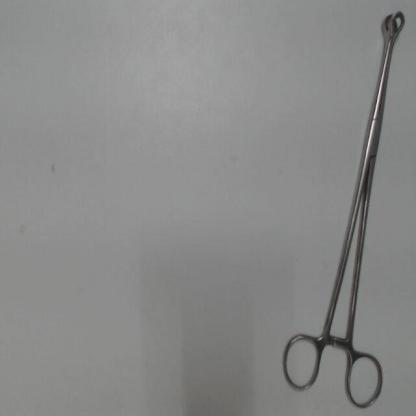8 Babcock Tissue Forceps: (277, 1, 410, 412)
